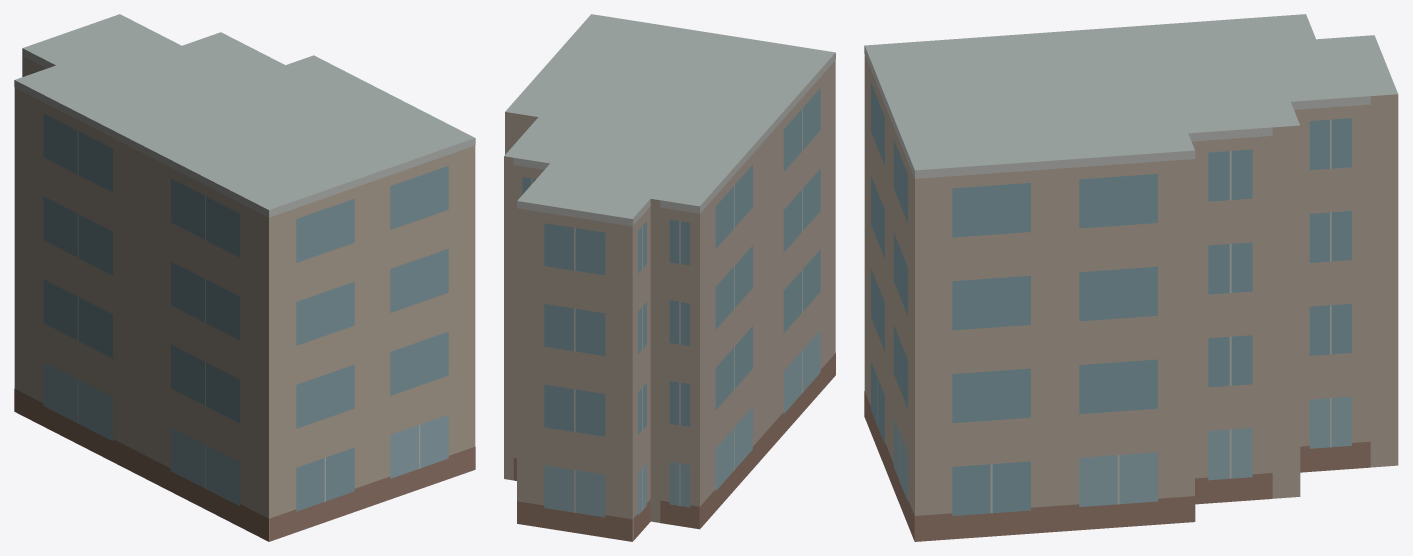
Rendered from survey-upis-32624497.glb.
The picture shows the model from 3 angles, left to right: view 1: azimuth 30°, elevation 25°; view 2: azimuth 150°, elevation 25°; view 3: azimuth 270°, elevation 25°; orthographic projection. The views are drawn at different scales.
Visible parts, largest first — view 1: survey-upis-32624497.tmp; view 2: survey-upis-32624497.tmp; view 3: survey-upis-32624497.tmp.
Part boxes in pixels (bbox=[...]): survey-upis-32624497.tmp: bbox=[14, 14, 475, 541]; survey-upis-32624497.tmp: bbox=[504, 14, 835, 541]; survey-upis-32624497.tmp: bbox=[864, 14, 1398, 541].
Size of the model in its own units: 9.77 by 10.8 by 14.08.
